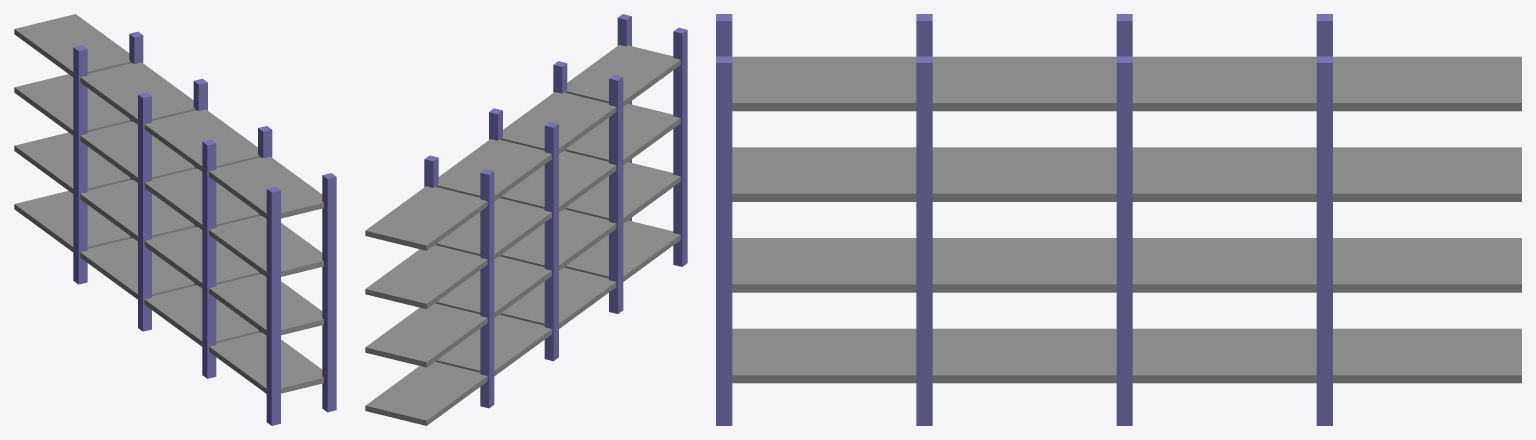
The model's file is shelves-1.glb.
3 renders of one model, left to right at view 1: azimuth 30°, elevation 25°; view 2: azimuth 150°, elevation 25°; view 3: azimuth 270°, elevation 25°, orthographic. The views are drawn at different scales.
Visible parts, largest first — view 1: shelf-1; view 2: shelf-1; view 3: shelf-1.
Part boxes in pixels (left/top/right/bottom): shelf-1: left=14, top=14, right=336, bottom=425; shelf-1: left=365, top=14, right=687, bottom=425; shelf-1: left=716, top=14, right=1521, bottom=425.
Bounding box in the file's own units: 4.65 × 16 × 32.2.
